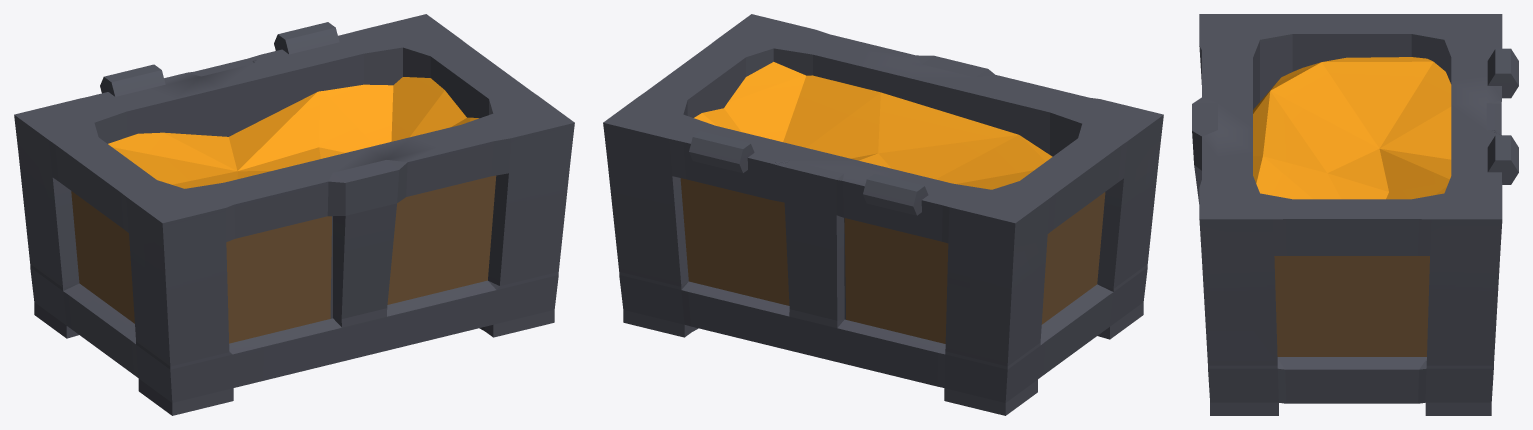
The model's file is Chest_01.fbx.
The picture shows the model from 3 angles, left to right: view 1: azimuth 30°, elevation 25°; view 2: azimuth 150°, elevation 25°; view 3: azimuth 270°, elevation 25°; orthographic projection. The views are drawn at different scales.
Parts seen in each view (by area): view 1: Chest_01; view 2: Chest_01; view 3: Chest_01.
Boxes of the visible parts, x1=… form: Chest_01: x1=14, y1=14, x2=574, y2=415; Chest_01: x1=603, y1=14, x2=1163, y2=415; Chest_01: x1=1192, y1=14, x2=1518, y2=415.
Size of the model in its own units: 1.51 by 0.7395 by 1.01.
